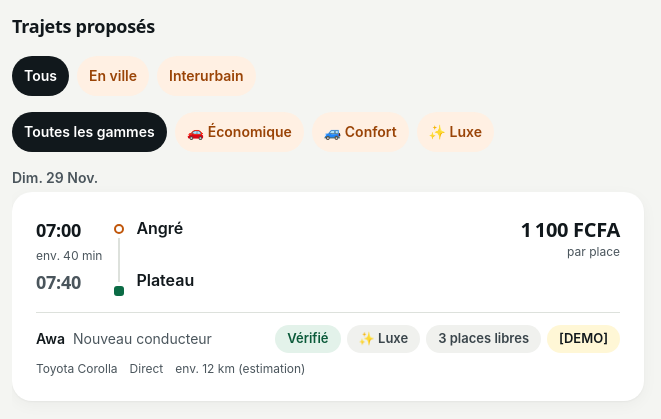
UpcomingTrips › liste les trajets proposés et filtre par type et par gamme
The image size is (661, 419).
Expected: the link "Angré" is shown, x1=136 y1=218 x2=183 y2=238
Click the button "Interurbain" at x=206, y=76, box x1=157 y1=56 x2=256 y2=96
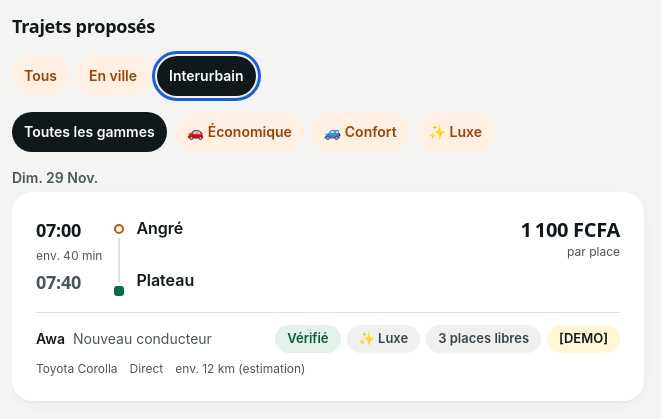
Click the button "✨ Luxe" at x=455, y=132, box x1=417 y1=112 x2=494 y2=152
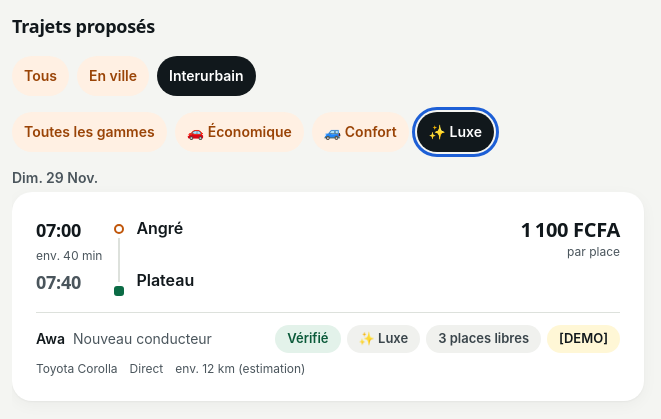
Click the button "🚙 Confort" at x=360, y=132, box x1=312 y1=112 x2=409 y2=152
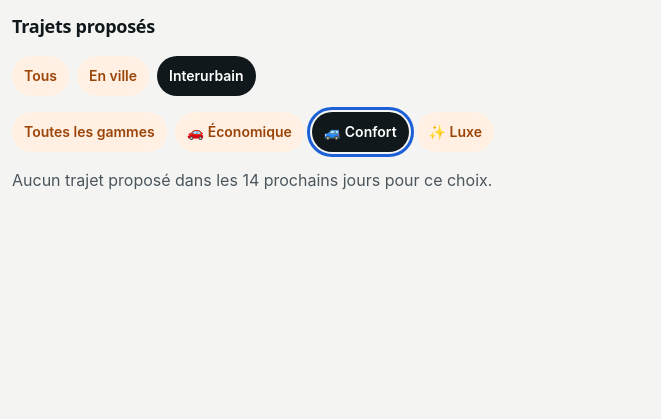
Expected: the text "Aucun trajet proposé" is shown, x1=12 y1=170 x2=492 y2=190
